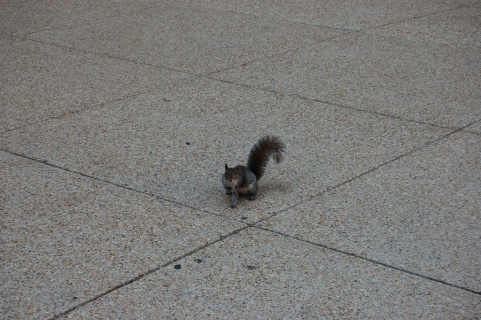Squirrel: (218, 132, 288, 207)
